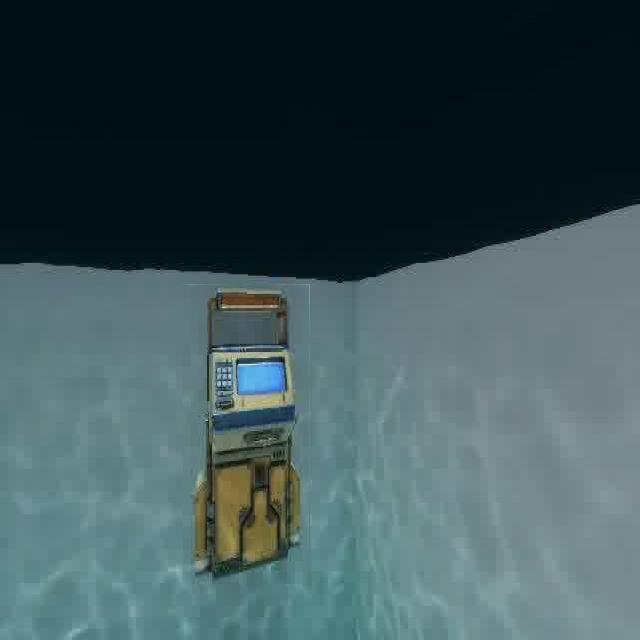Control Panel: (182, 284, 310, 586)
